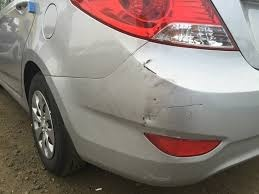Scratch: (136, 55, 181, 127)
